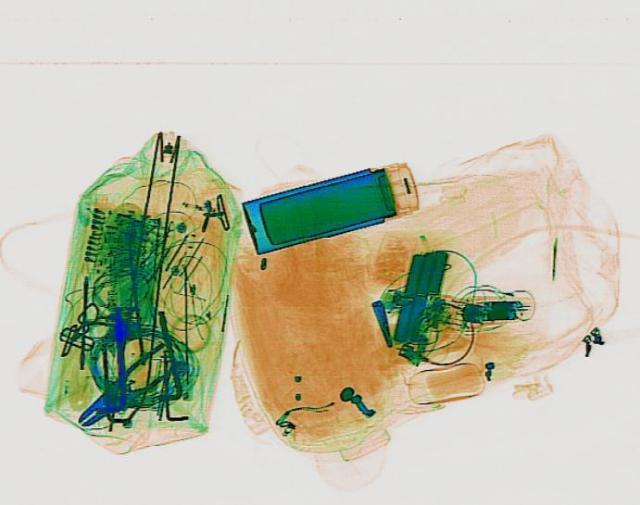Pliers: (62, 339, 188, 433)
